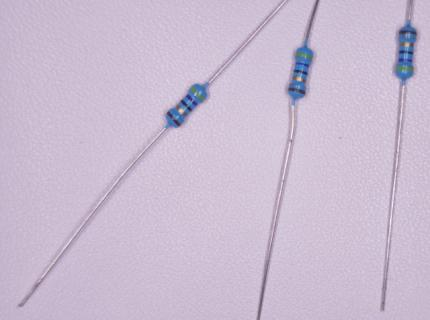Gold band: (174, 104, 188, 118), (292, 75, 307, 84), (399, 41, 414, 47)
Violet band: (185, 93, 198, 107), (295, 61, 310, 67), (398, 58, 413, 63)
Yellow band: (189, 86, 205, 102), (295, 52, 313, 60), (396, 66, 414, 72)
